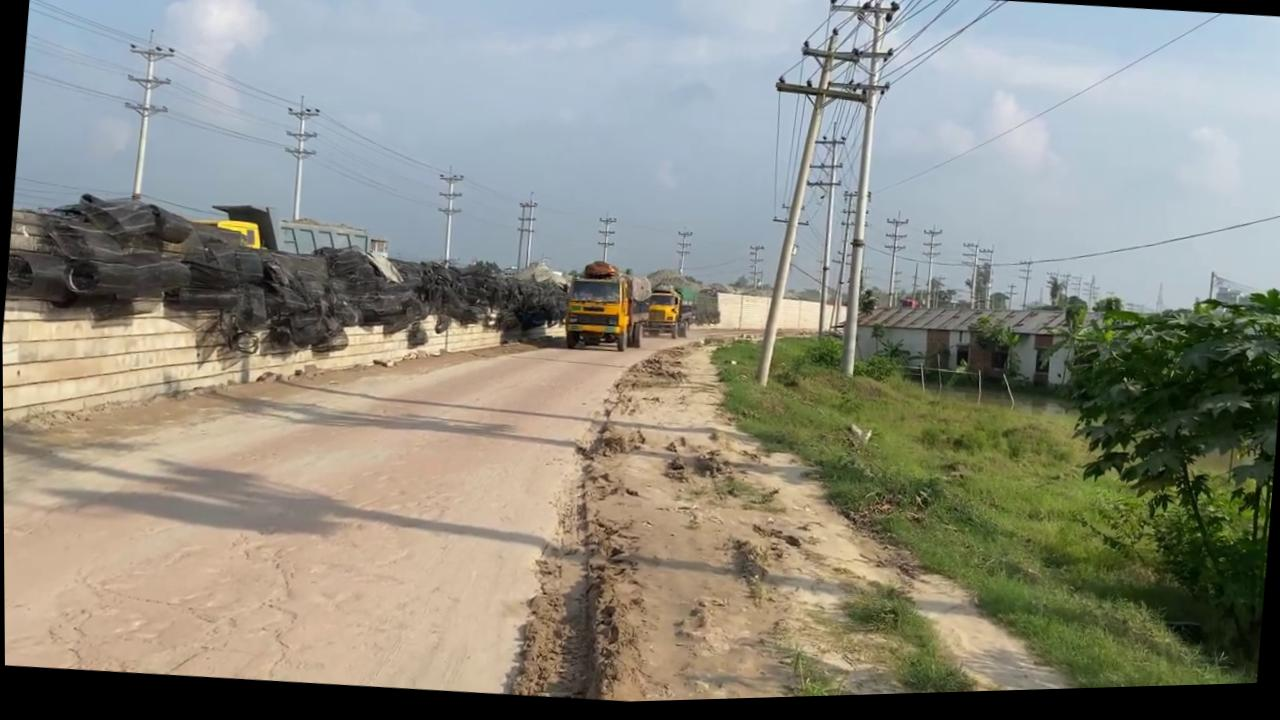Garbage: (6, 172, 580, 386)
Pole: (748, 0, 902, 400), (752, 28, 841, 396), (833, 0, 900, 384)
Traffic-sign: (1013, 272, 1280, 680)
Tree: (560, 260, 653, 360), (186, 199, 281, 257), (639, 286, 692, 345), (688, 291, 722, 331)
Upstairs: (2, 266, 538, 469)
